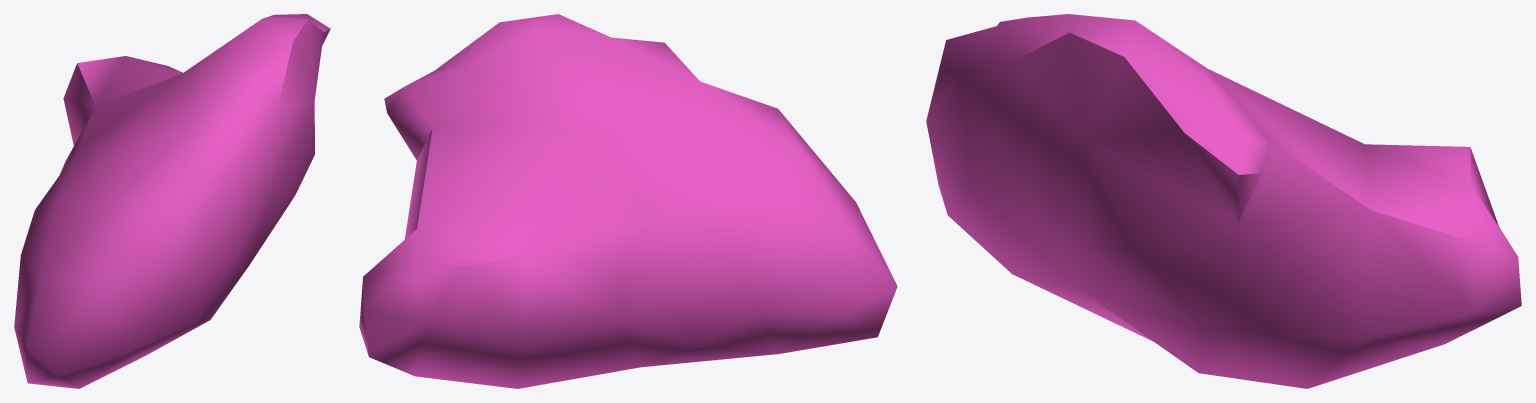
File: spl-391.glb
3 views of the same model, side by side, from view 1: azimuth 30°, elevation 25°; view 2: azimuth 150°, elevation 25°; view 3: azimuth 270°, elevation 25° (orthographic). The views are drawn at different scales.
Visible parts, largest first — view 1: spl-391; view 2: spl-391; view 3: spl-391.
Part boxes in pixels (<box>): spl-391: <box>14,14,330,388</box>; spl-391: <box>359,14,897,388</box>; spl-391: <box>926,14,1521,388</box>.
Size of the model in its own units: 5.17 by 3.49 by 5.13.
